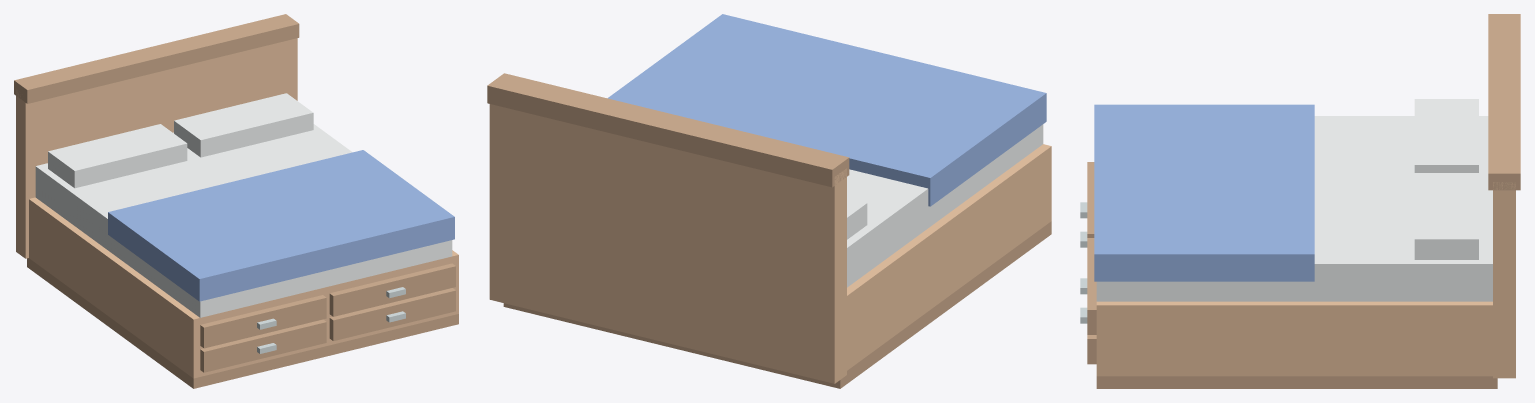
Rendered from bedStorageDrawers.glb.
3 views of the same model, side by side, from view 1: azimuth 30°, elevation 25°; view 2: azimuth 150°, elevation 25°; view 3: azimuth 270°, elevation 25° (orthographic). The views are drawn at different scales.
Visible parts, largest first — view 1: bedStorageDrawers; view 2: bedStorageDrawers; view 3: bedStorageDrawers.
Boxes of the visible parts, box(x1,y1,x2,y2) form: bedStorageDrawers: box(14, 14, 458, 388); bedStorageDrawers: box(487, 14, 1051, 388); bedStorageDrawers: box(1080, 14, 1520, 388).
Size of the model in its own units: 0.82 by 0.52 by 0.955.
